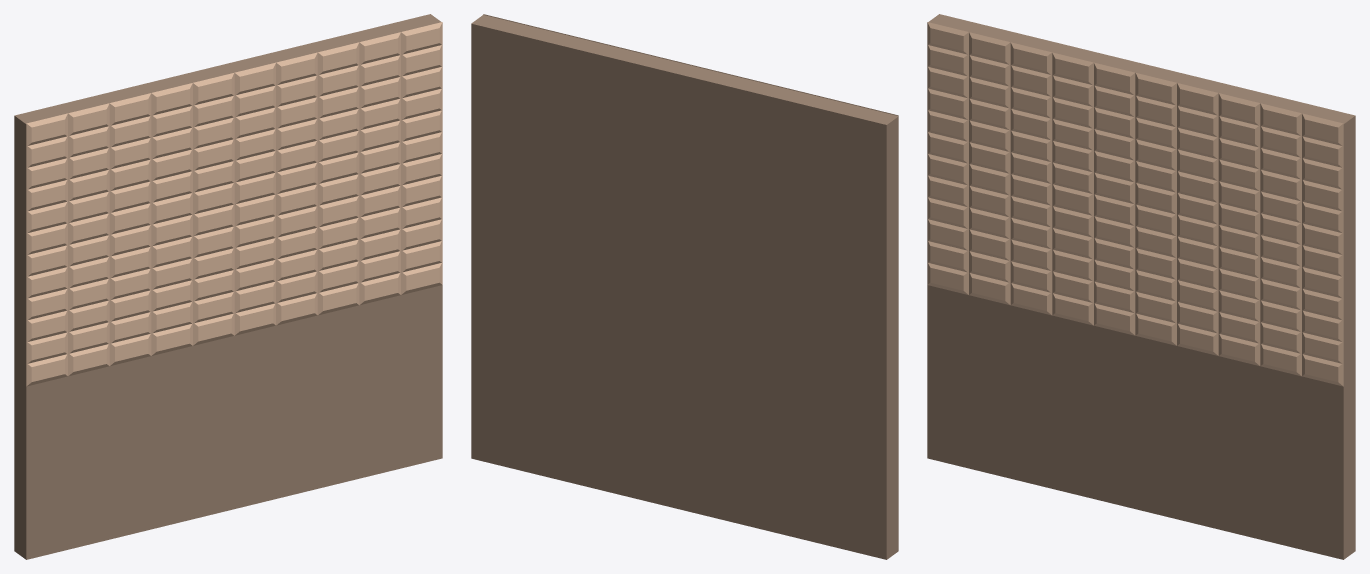
File: Wall1.fbx
The picture shows the model from 3 angles, left to right: view 1: azimuth 30°, elevation 25°; view 2: azimuth 150°, elevation 25°; view 3: azimuth 330°, elevation 25°; orthographic projection.
Parts seen in each view (by area): view 1: Cube; view 2: Cube; view 3: Cube.
Boxes of the visible parts, x1=… form: Cube: x1=14, y1=14, x2=442, y2=559; Cube: x1=471, y1=14, x2=898, y2=559; Cube: x1=927, y1=14, x2=1355, y2=559.
Bounding box in the file's own units: 200 × 200 × 11.
